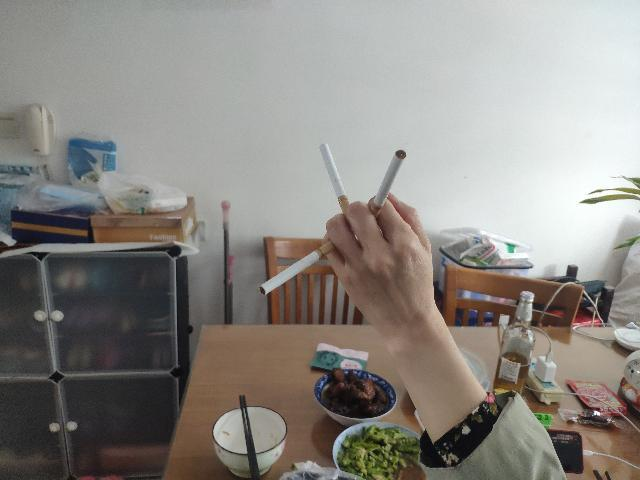Smoking: (258, 240, 338, 296), (319, 143, 356, 227), (366, 148, 408, 222)
